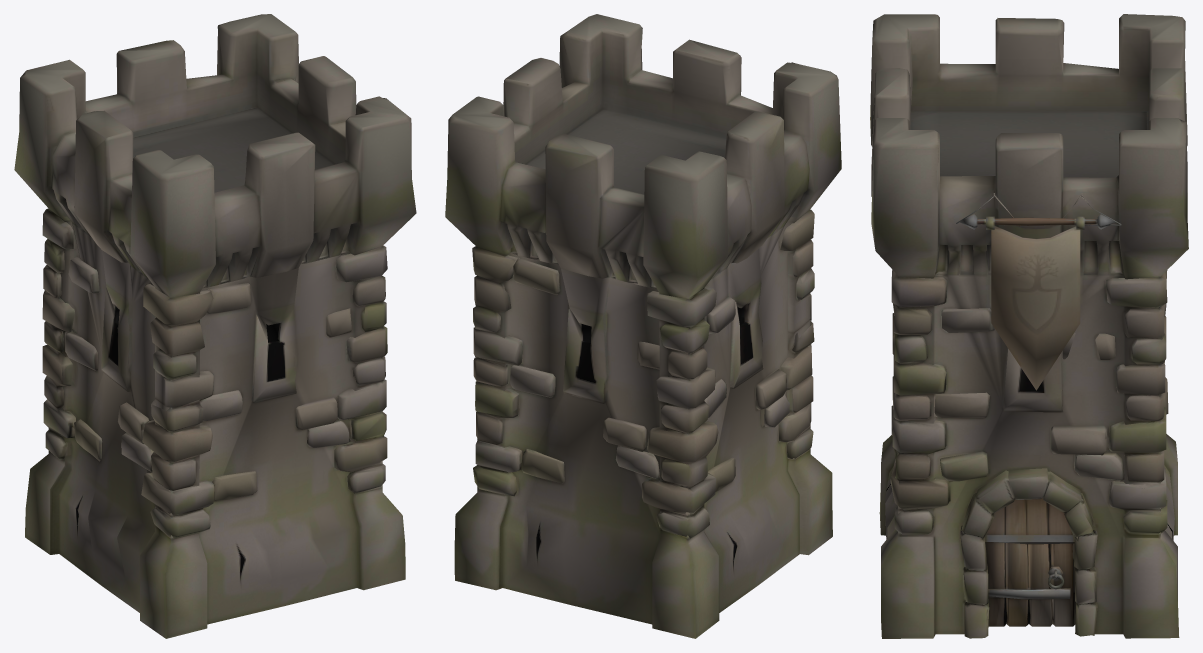
Rendered from command-tower-fantasy.glb.
3 views of the same model, side by side, from view 1: azimuth 30°, elevation 25°; view 2: azimuth 150°, elevation 25°; view 3: azimuth 270°, elevation 25° (orthographic). The views are drawn at different scales.
Parts seen in each view (by area): view 1: tripo_node_ba00cfd2-fef3-41d4-8881-59ab7048210b; view 2: tripo_node_ba00cfd2-fef3-41d4-8881-59ab7048210b; view 3: tripo_node_ba00cfd2-fef3-41d4-8881-59ab7048210b.
Boxes of the visible parts, <box> form: tripo_node_ba00cfd2-fef3-41d4-8881-59ab7048210b: <box>14,14,416,638</box>; tripo_node_ba00cfd2-fef3-41d4-8881-59ab7048210b: <box>445,14,841,638</box>; tripo_node_ba00cfd2-fef3-41d4-8881-59ab7048210b: <box>870,14,1188,638</box>.
Size of the model in its own units: 0.6152 by 0.998 by 0.5801.
Materials: 1 (1 with a texture image).
